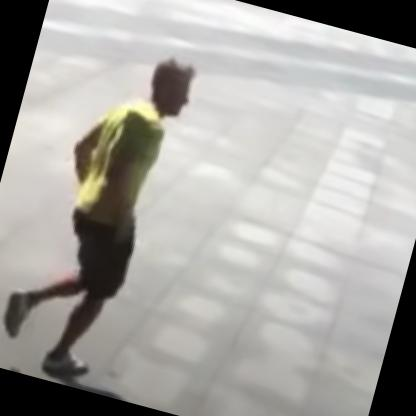Human Body: (0, 24, 215, 400)
